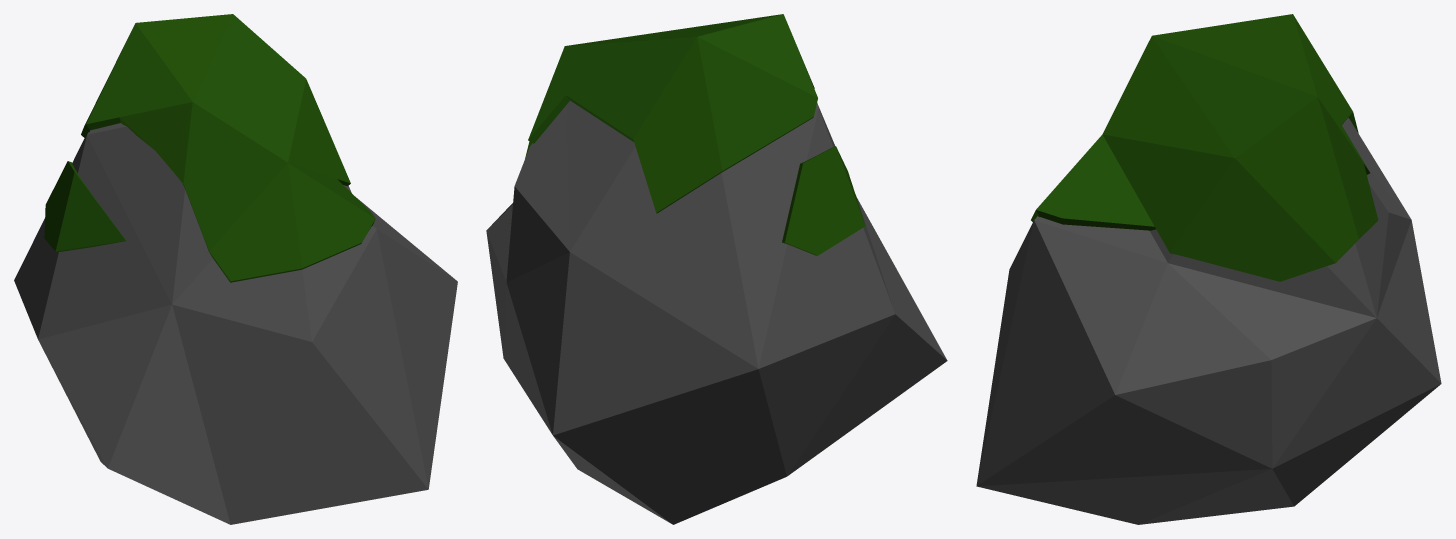
File: Sea_Rock4.fbx
3 views of the same model, side by side, from view 1: azimuth 30°, elevation 25°; view 2: azimuth 150°, elevation 25°; view 3: azimuth 270°, elevation 25° (orthographic). The views are drawn at different scales.
Parts seen in each view (by area): view 1: Icosphere.000; view 2: Icosphere.000; view 3: Icosphere.000.
Part boxes in pixels (x1,y1,x2,y2): Icosphere.000: [14, 14, 457, 524]; Icosphere.000: [486, 14, 947, 524]; Icosphere.000: [976, 14, 1441, 524].
Bounding box in the file's own units: 969 × 1108 × 1004.
